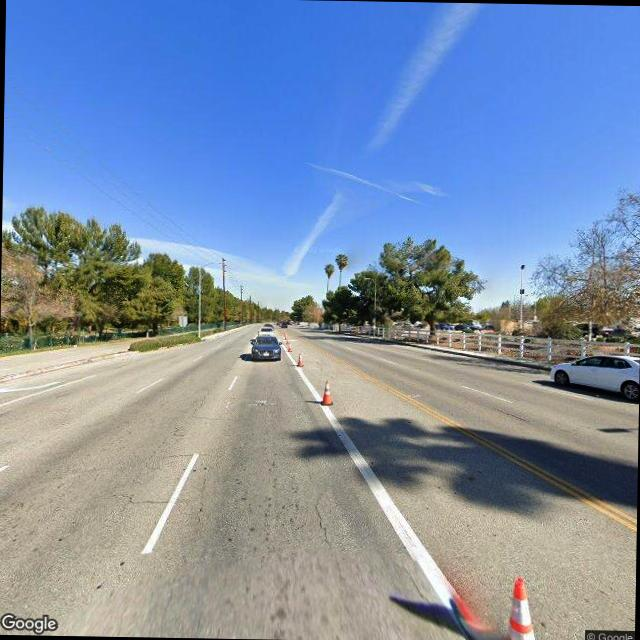crack: (140, 422, 182, 466), (107, 488, 192, 506), (308, 497, 331, 549)
